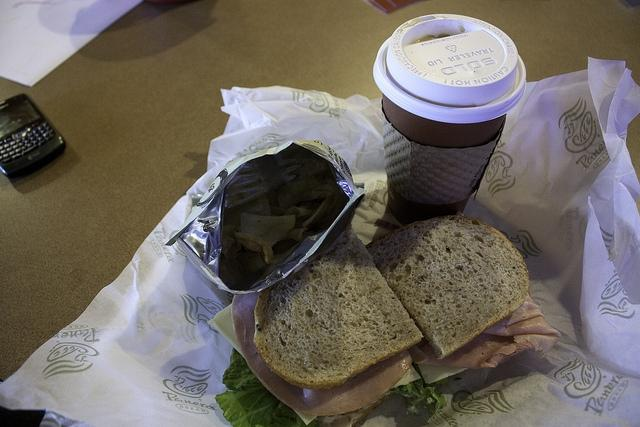lettuce: (216, 348, 318, 426), (423, 386, 447, 419), (412, 380, 427, 408), (406, 382, 421, 397)
